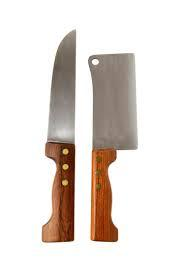Knife: (87, 52, 138, 242), (41, 28, 76, 242)
